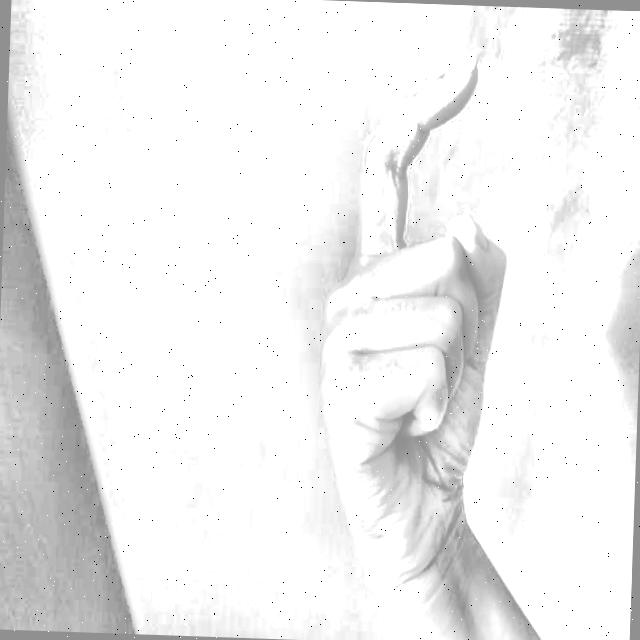E: (299, 30, 522, 562)
